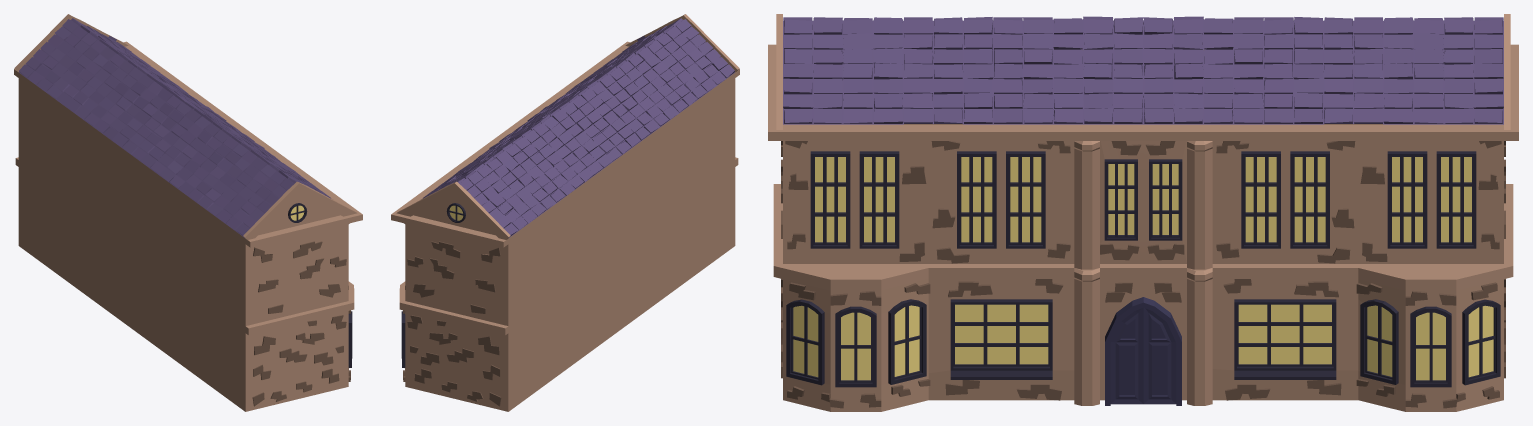
Rendered from Hauptgebäude.fbx.
3 renders of one model, left to right at view 1: azimuth 30°, elevation 25°; view 2: azimuth 150°, elevation 25°; view 3: azimuth 270°, elevation 25°, orthographic. The views are drawn at different scales.
Visible parts, largest first — view 1: Haupgebäude; view 2: Haupgebäude; view 3: Haupgebäude.
Part boxes in pixels (x1=…): Haupgebäude: x1=14, y1=14, x2=362, y2=411; Haupgebäude: x1=391, y1=14, x2=739, y2=411; Haupgebäude: x1=768, y1=14, x2=1518, y2=411.
Size of the model in its own units: 1352 by 2235 by 4393.
